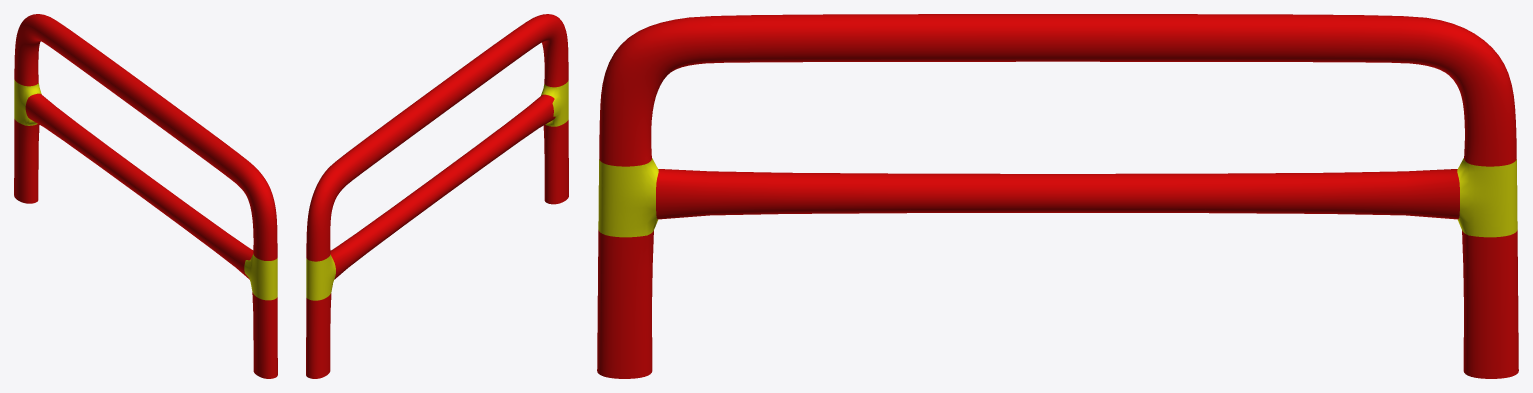
The model's file is Basement_GardLine_high.fbx.
3 renders of one model, left to right at view 1: azimuth 30°, elevation 25°; view 2: azimuth 150°, elevation 25°; view 3: azimuth 270°, elevation 25°, orthographic. The views are drawn at different scales.
Parts seen in each view (by area): view 1: Basement_GardLine_high; view 2: Basement_GardLine_high; view 3: Basement_GardLine_high.
Boxes of the visible parts, box(x1,y1,x2,y2) form: Basement_GardLine_high: box(14, 14, 277, 378); Basement_GardLine_high: box(306, 14, 568, 378); Basement_GardLine_high: box(597, 14, 1518, 378).
Bounding box in the file's own units: 0.4359 × 4.09 × 9.61.
